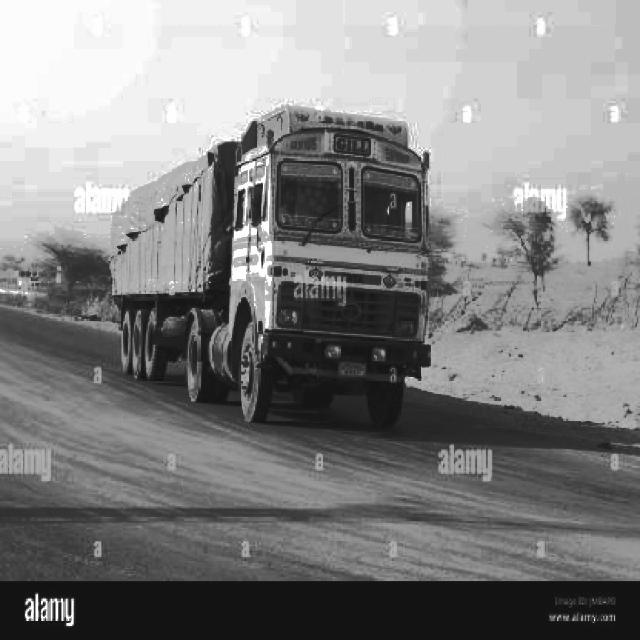HCV: (97, 129, 429, 421)
